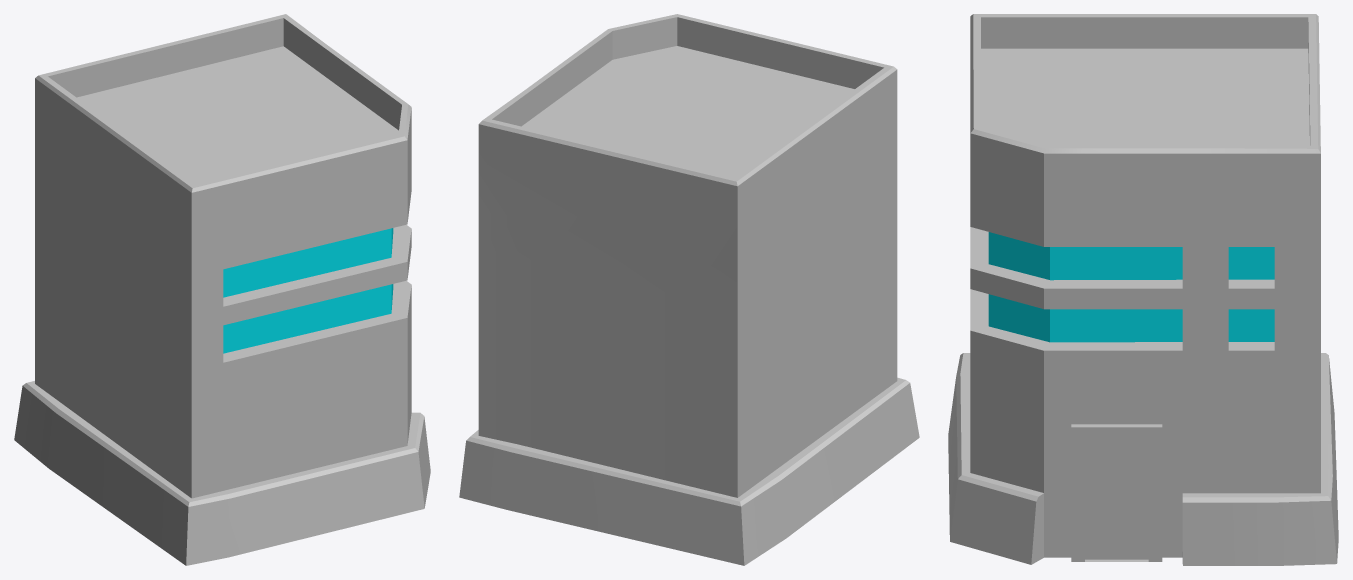
Rendered from Building_3.FBX.
3 renders of one model, left to right at view 1: azimuth 30°, elevation 25°; view 2: azimuth 150°, elevation 25°; view 3: azimuth 270°, elevation 25°, orthographic. The views are drawn at different scales.
Visible parts, largest first — view 1: Building_1; view 2: Building_1; view 3: Building_1, Plane004.
Part boxes in pixels (x1,y1,x2,y2): Building_1: [14, 14, 430, 565]; Building_1: [459, 14, 919, 565]; Building_1: [948, 14, 1338, 565]; Plane004: [1071, 424, 1162, 561].
Bounding box in the file's own units: 529 × 652 × 564.
